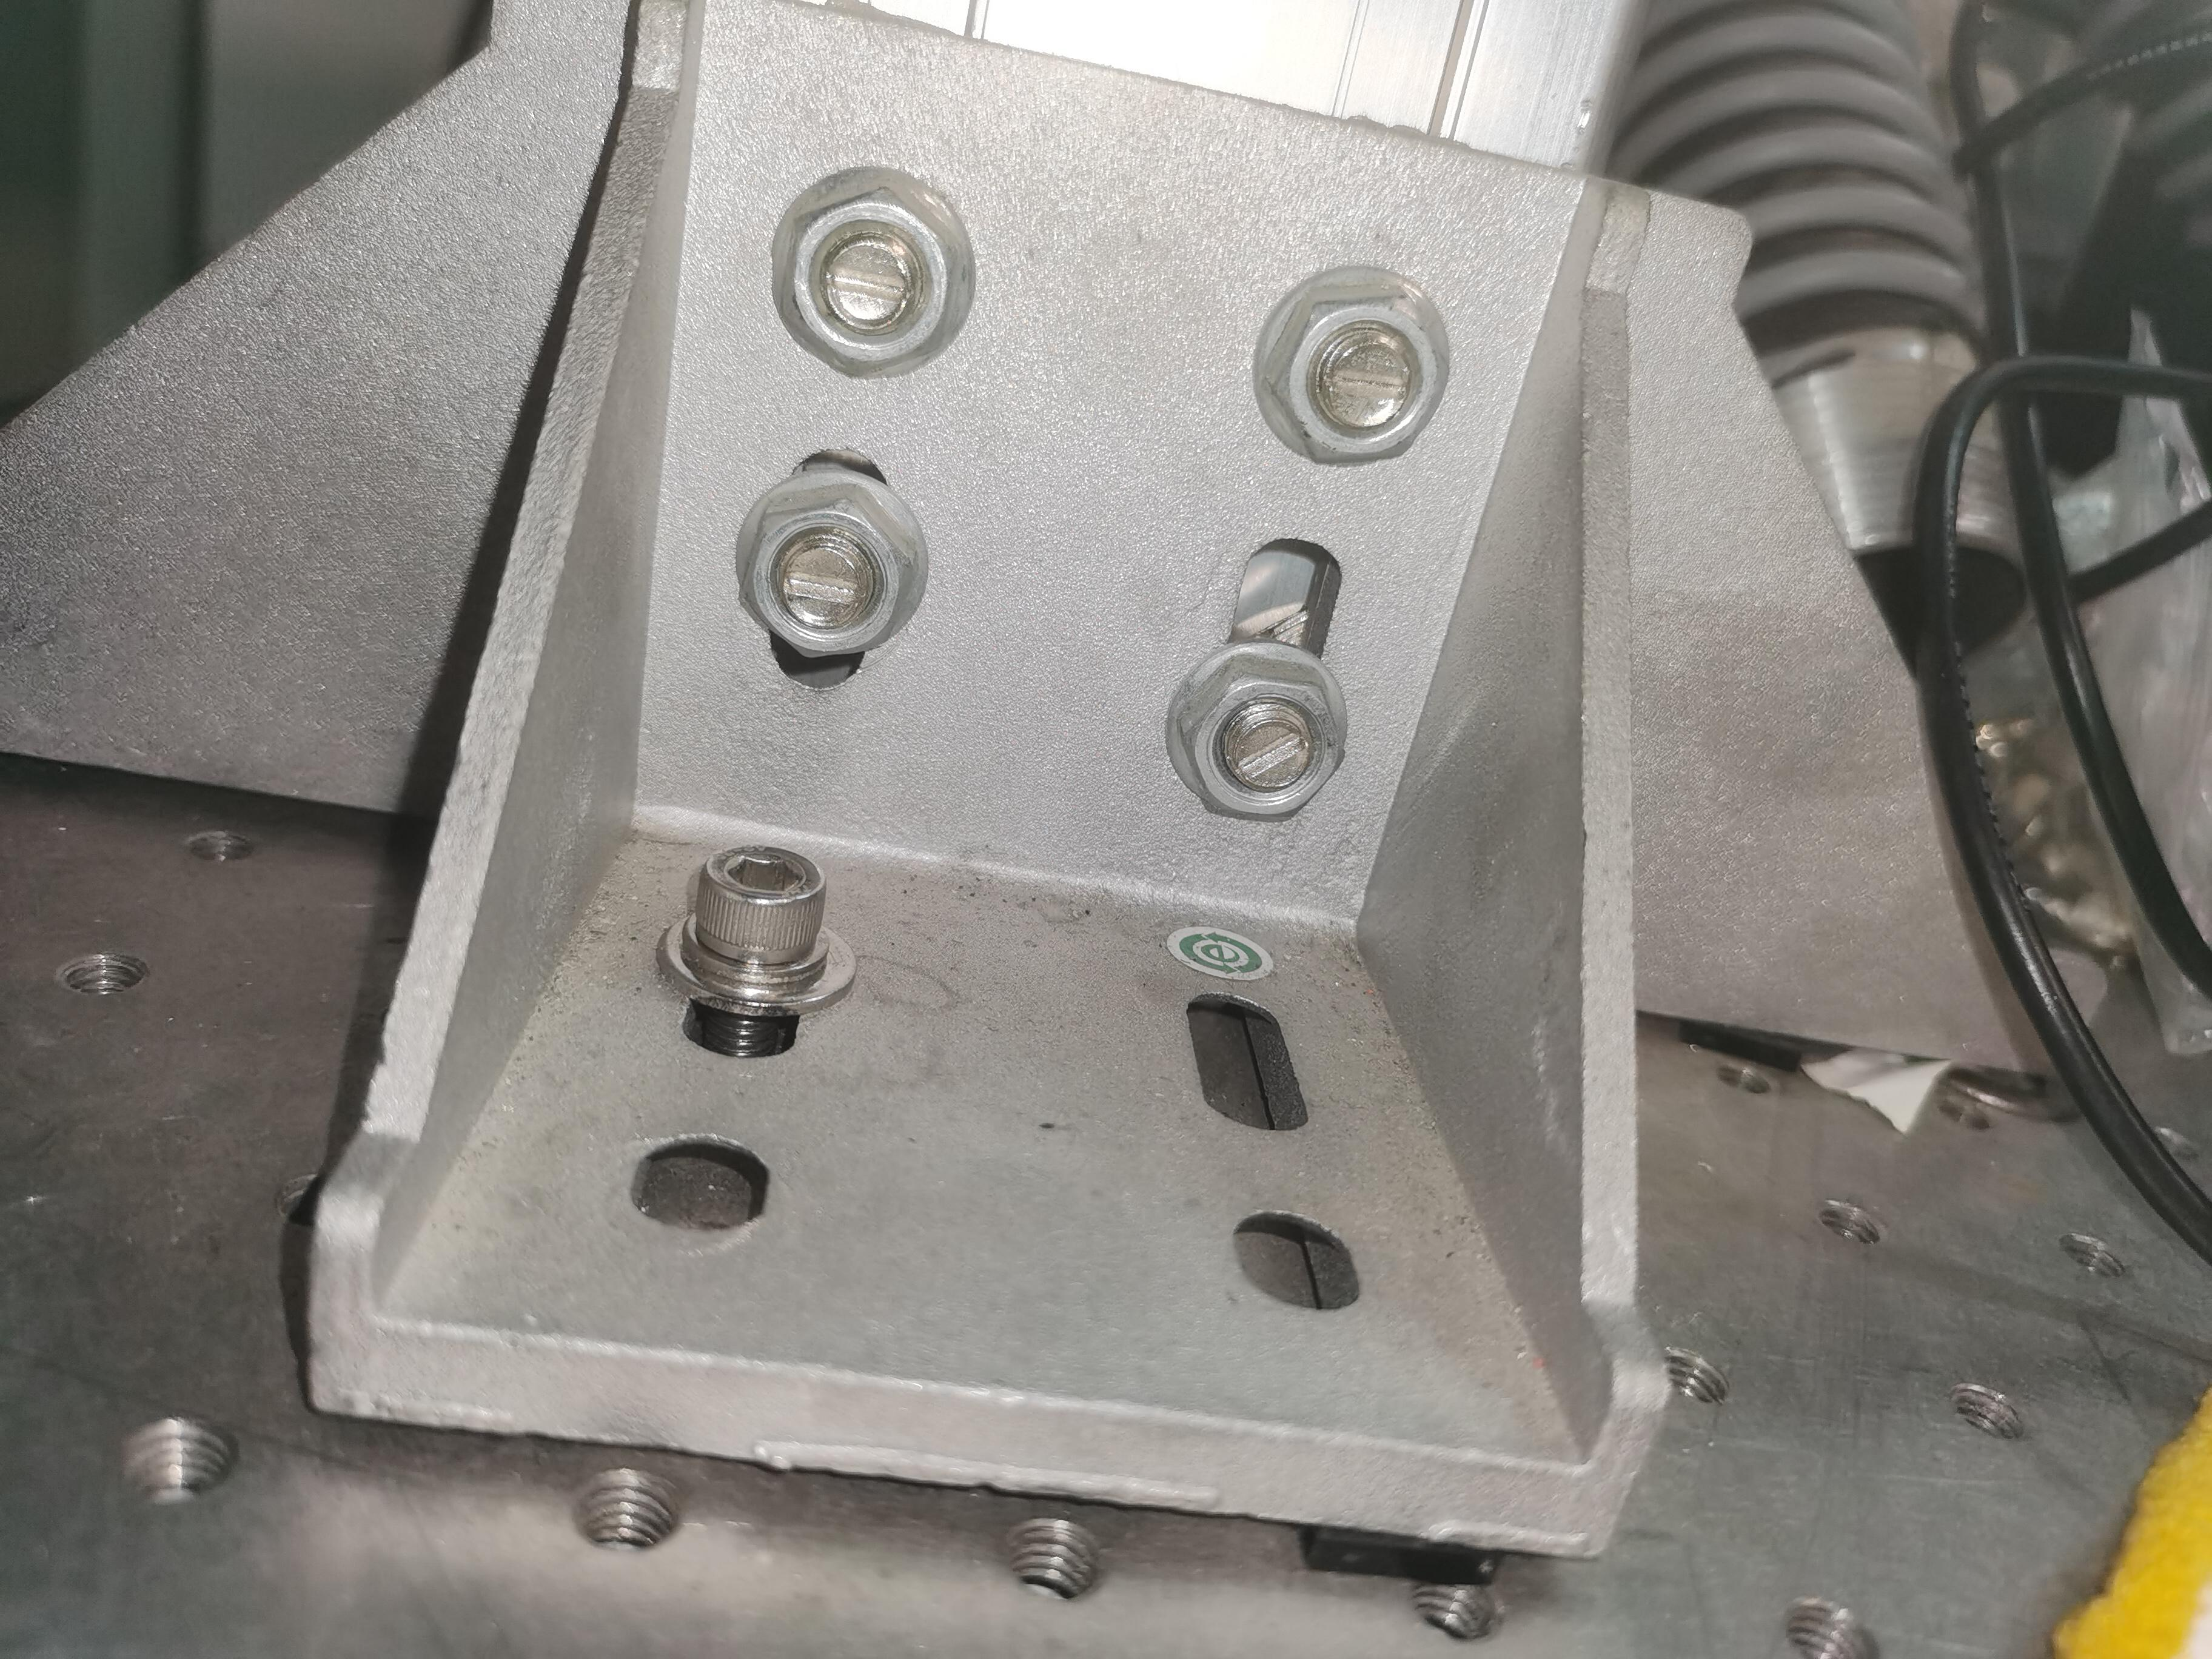bolt_b: (1254, 274, 1446, 467), (777, 186, 956, 375), (1172, 645, 1350, 828), (728, 483, 918, 653)
